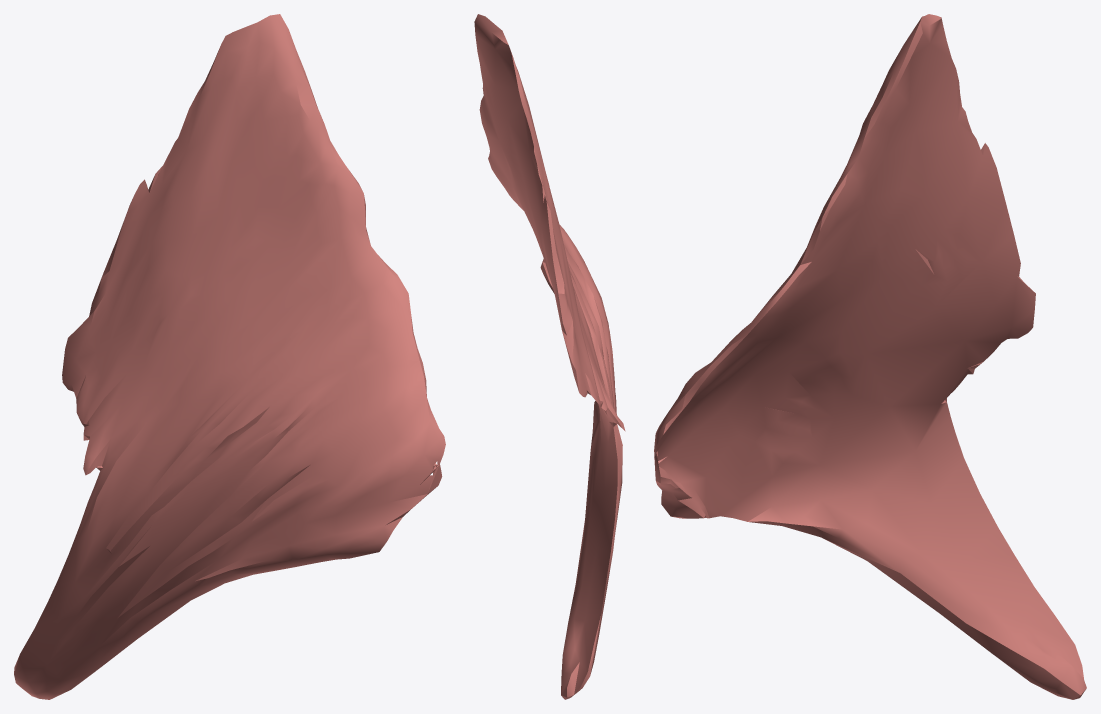
File: fma55606_mm1088m.glb
The picture shows the model from 3 angles, left to right: view 1: azimuth 30°, elevation 25°; view 2: azimuth 150°, elevation 25°; view 3: azimuth 270°, elevation 25°; orthographic projection. The views are drawn at different scales.
Parts seen in each view (by area): view 1: FMA55606_MM1088M; view 2: FMA55606_MM1088M; view 3: FMA55606_MM1088M.
Part boxes in pixels (x1,y1,x2,y2): FMA55606_MM1088M: [14, 14, 445, 699]; FMA55606_MM1088M: [474, 14, 625, 699]; FMA55606_MM1088M: [654, 14, 1086, 699].
Bounding box in the file's own units: 0.0165 × 0.0429 × 0.0219.
